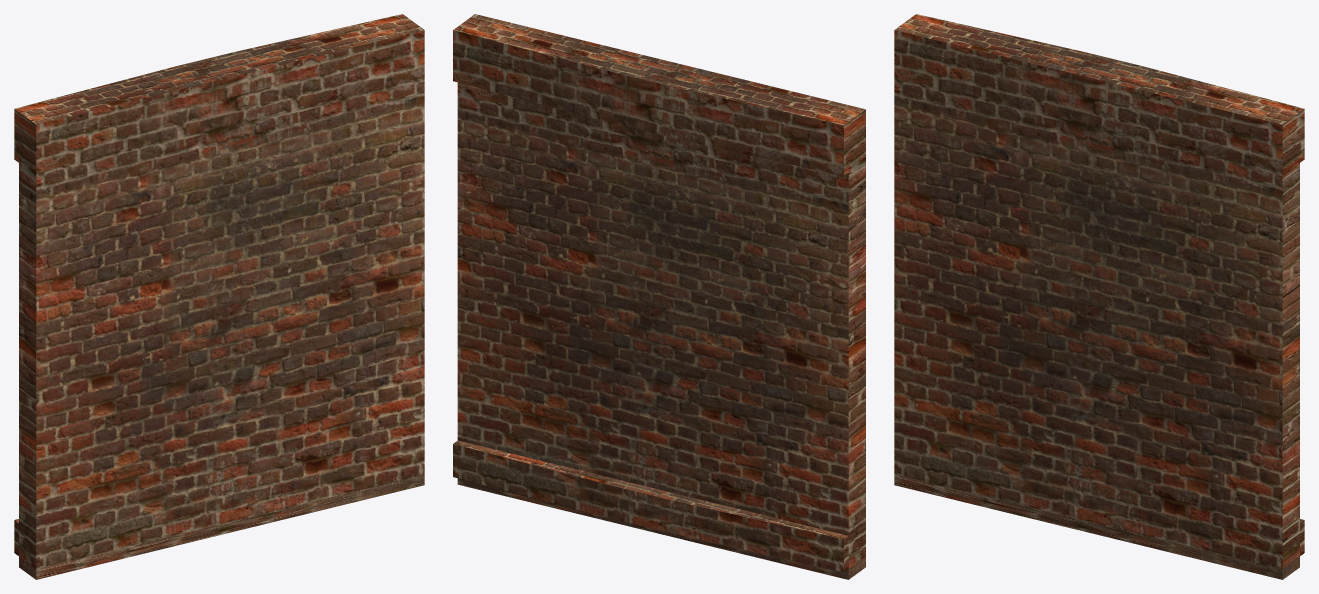
File: Pared.fbx
3 views of the same model, side by side, from view 1: azimuth 30°, elevation 25°; view 2: azimuth 150°, elevation 25°; view 3: azimuth 330°, elevation 25° (orthographic).
Parts seen in each view (by area): view 1: Pared; view 2: Pared; view 3: Pared.
Part boxes in pixels (bbox=[...]): Pared: bbox=[14, 14, 424, 579]; Pared: bbox=[453, 14, 865, 579]; Pared: bbox=[894, 14, 1304, 579].
Bounding box in the file's own units: 2602 × 2914 × 291.
